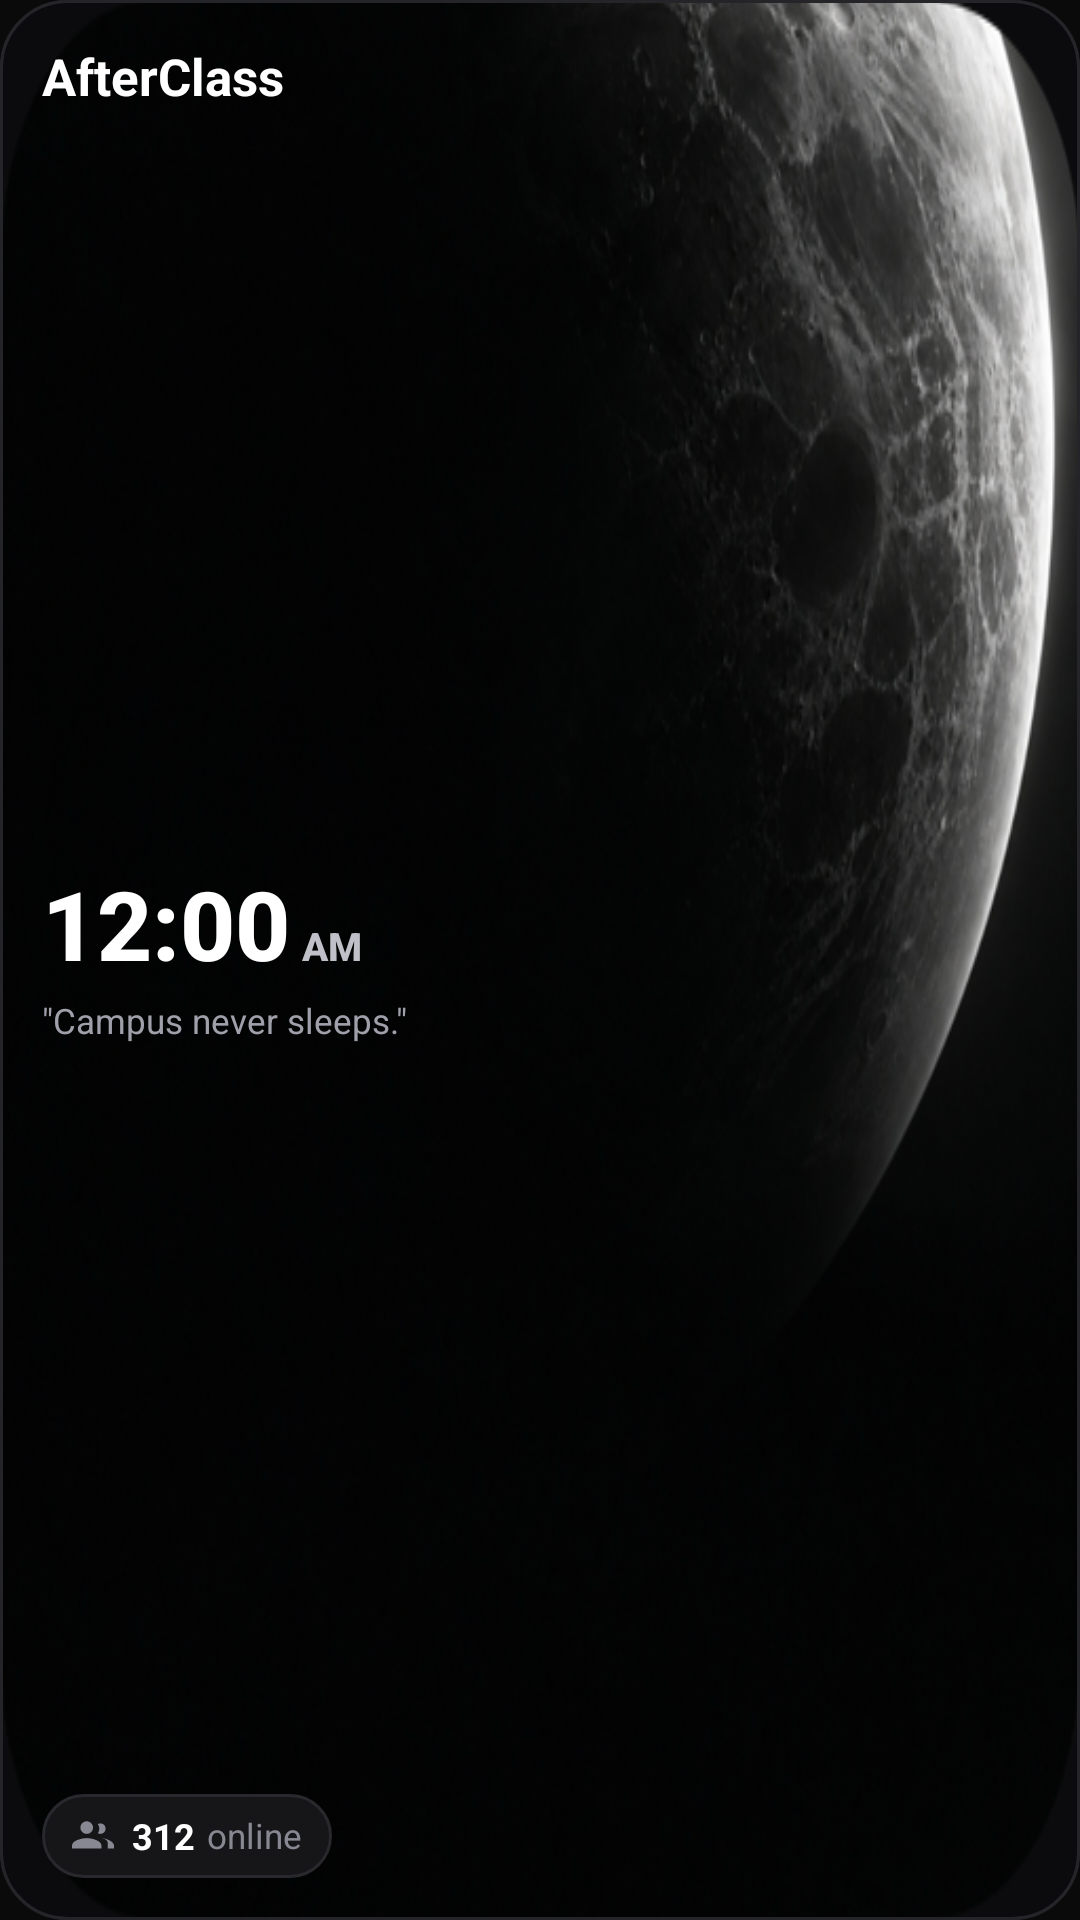

Point at icon controls on the screen. Image size 1080×1920, points as [x,y].
widget users: [93,1835]
